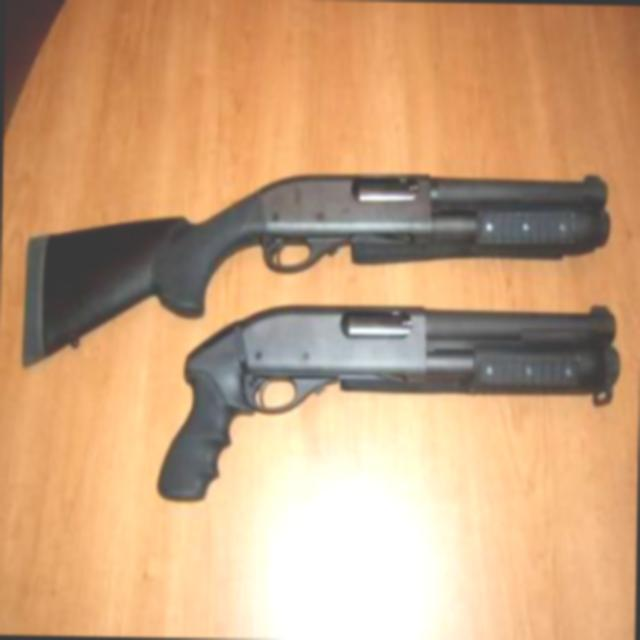shotgun: (16, 134, 616, 302)
